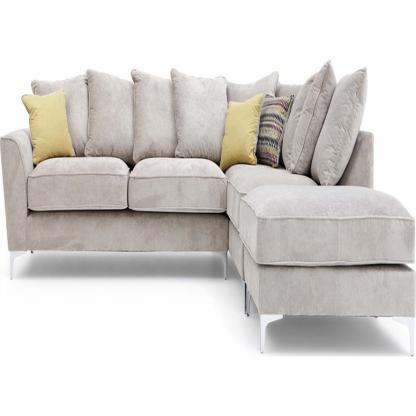Sofa: (9, 74, 375, 318)
